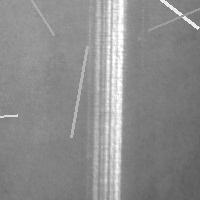scratches: (86, 1, 126, 199), (66, 41, 92, 142), (3, 0, 59, 40), (139, 0, 200, 33), (143, 0, 200, 35), (0, 110, 22, 126)
